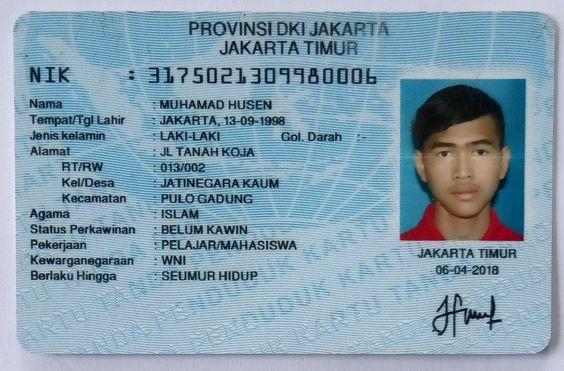ID-card: (16, 12, 551, 351)
